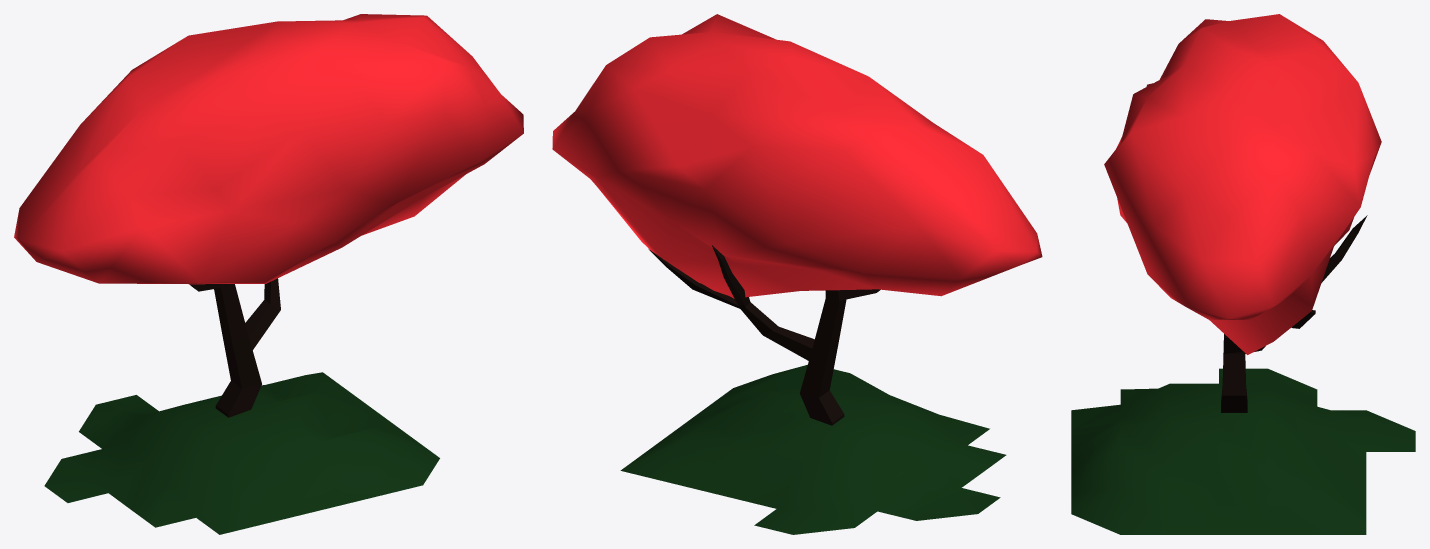
Rendered from Cherry_Tree.FBX.
3 renders of one model, left to right at view 1: azimuth 30°, elevation 25°; view 2: azimuth 150°, elevation 25°; view 3: azimuth 270°, elevation 25°, orthographic. The views are drawn at different scales.
Visible parts, largest first — view 1: Cherry leaves, underground; view 2: Cherry leaves, underground; view 3: Cherry leaves, underground.
Part boxes in pixels (x1,y1,x2,y2): Cherry leaves: [14, 14, 523, 417]; underground: [44, 372, 439, 534]; Cherry leaves: [552, 14, 1042, 425]; underground: [620, 365, 1006, 534]; Cherry leaves: [1104, 14, 1381, 412]; underground: [1071, 368, 1415, 534].
Bounding box in the file's own units: 129 × 72.92 × 100.
